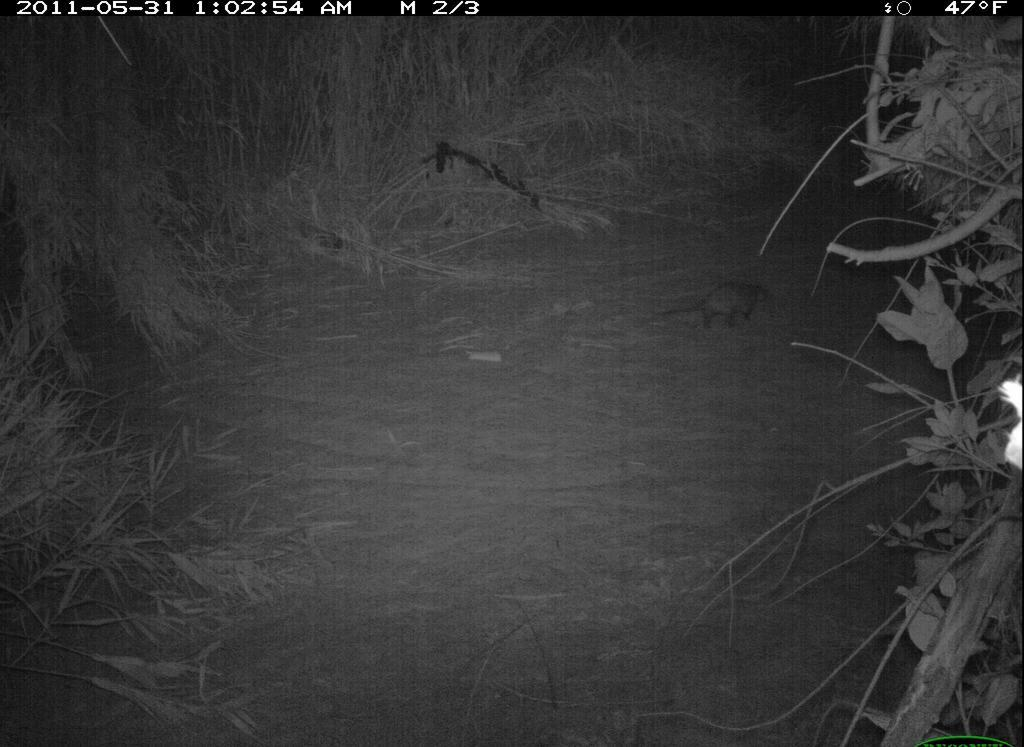opossum: (652, 271, 780, 349)
